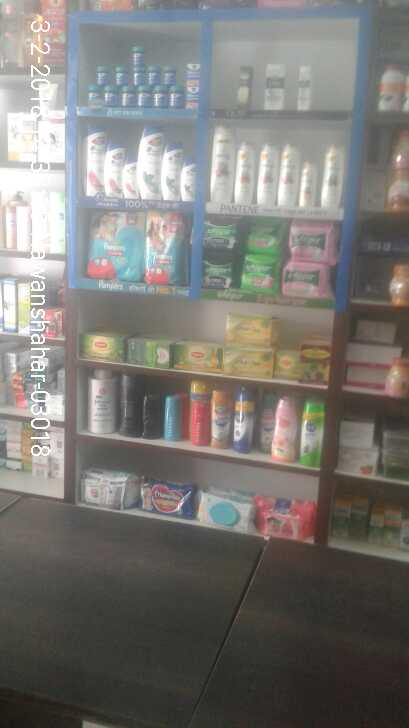vicks: (86, 42, 203, 113)
